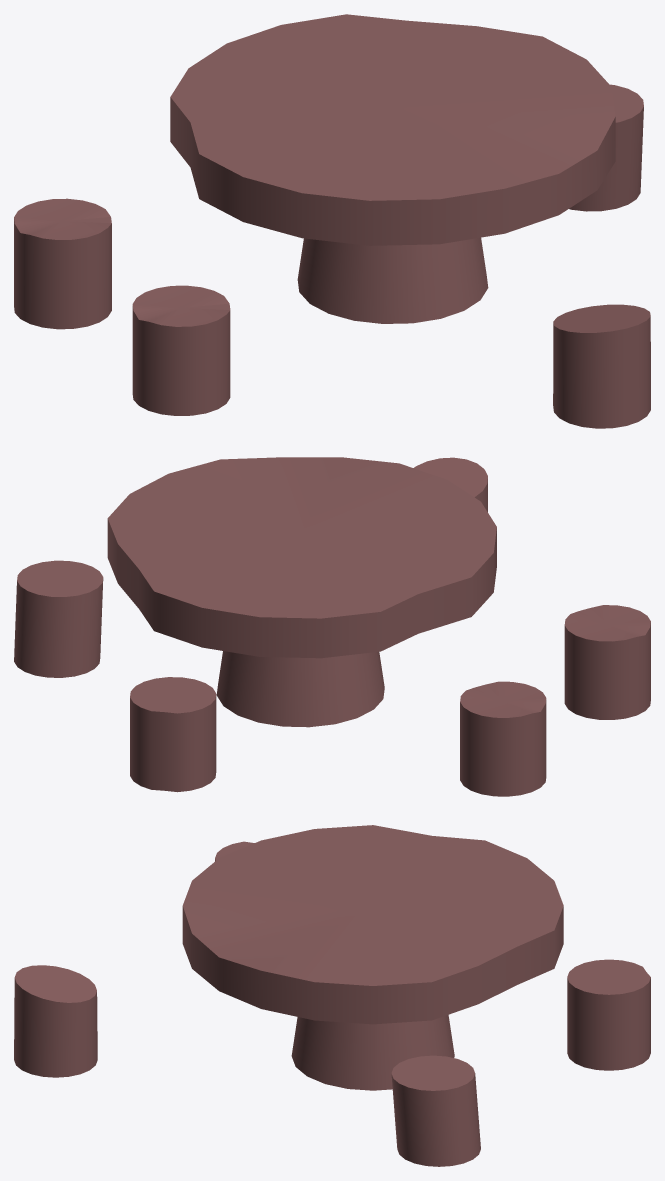
File: Mesa y Sillas Madera.fbx
3 renders of one model, top to bottom at view 1: azimuth 30°, elevation 25°; view 2: azimuth 150°, elevation 25°; view 3: azimuth 270°, elevation 25°, orthographic. The views are drawn at different scales.
Parts seen in each view (by area): view 1: pCylinder15; view 2: pCylinder15; view 3: pCylinder15.
Boxes of the visible parts, box(x1,y1,x2,y2) form: pCylinder15: box(14, 14, 650, 428); pCylinder15: box(14, 457, 650, 796); pCylinder15: box(14, 825, 650, 1166).
Size of the model in its own units: 311 by 87.25 by 334.
